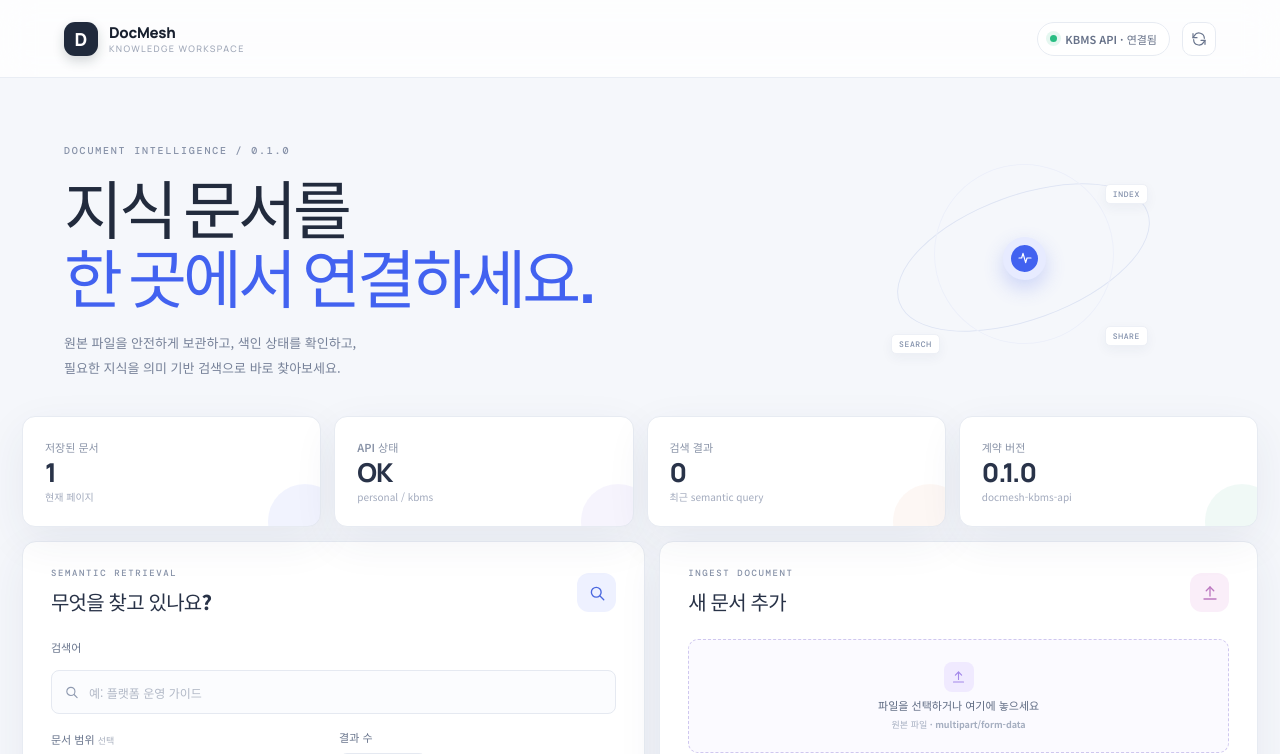
Test case: knowledge management UI › loads the connection status and document list, then performs semantic search
The image size is (1280, 754).
Expected: the element with test id "health-badge" shows "연결됨", [1127,30,1157,46]
Type "knowledge" into the field labelled "검색어".
click(334, 692); type("knowledge")  # box [51,670,616,714]
(page scrolled)
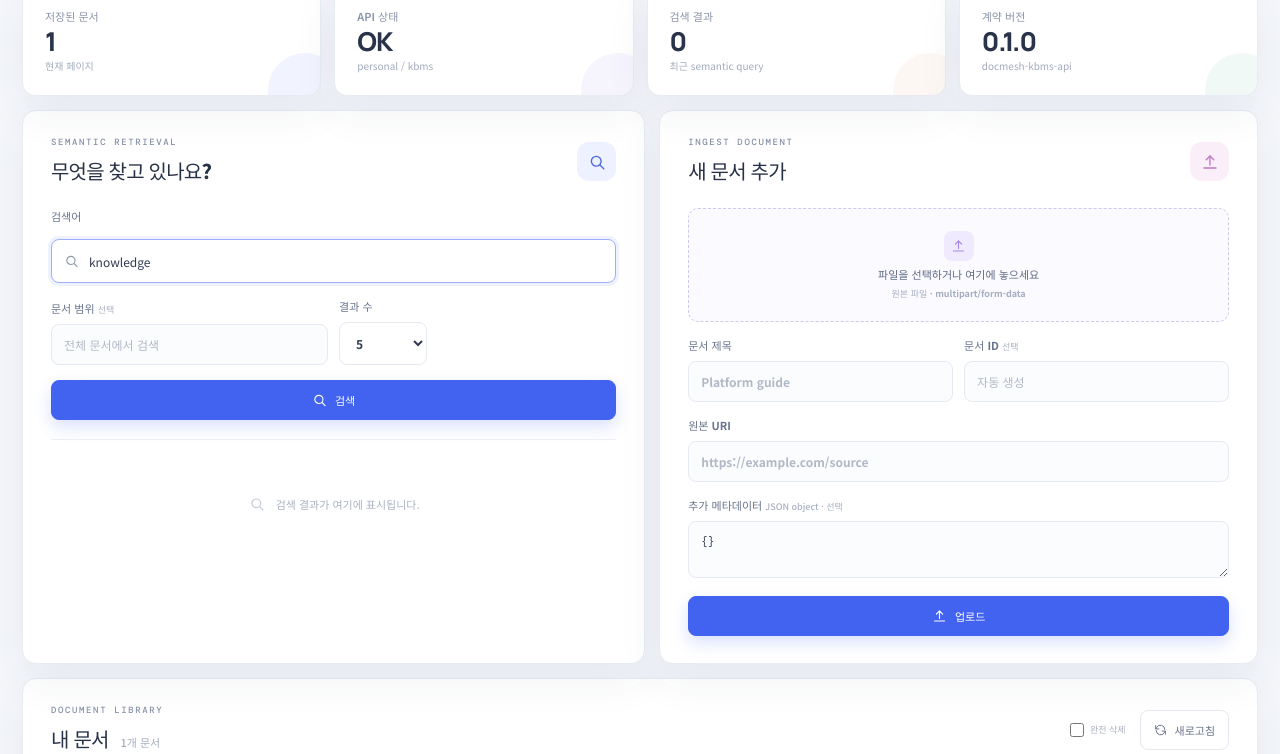
Click the button "검색".
click(334, 400)  # box [51,380,616,420]
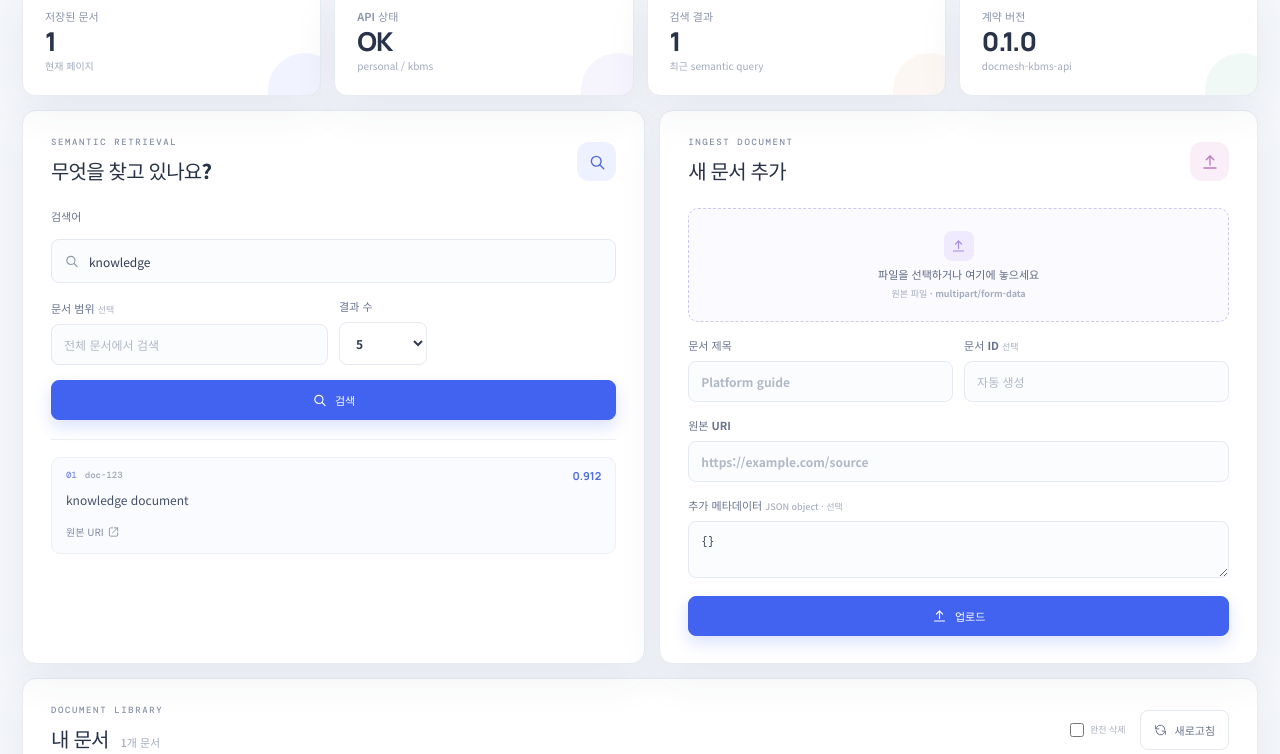
Expected: the text "knowledge document" is shown, [66,491,188,508]
